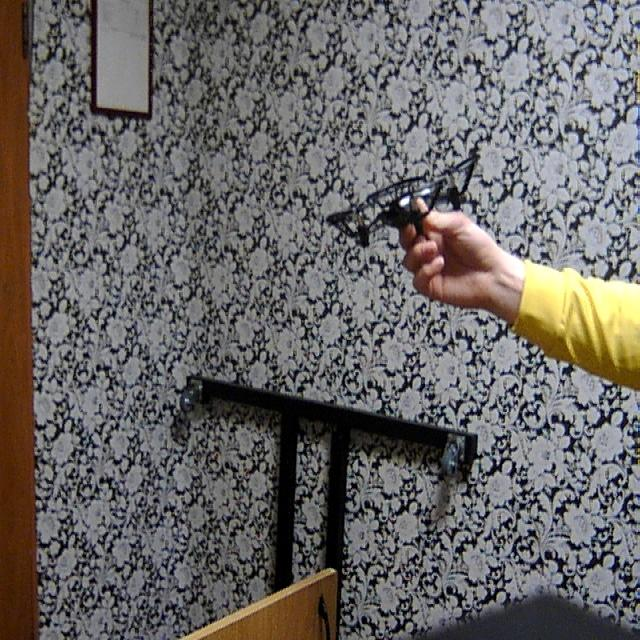drone: (310, 131, 493, 247)
